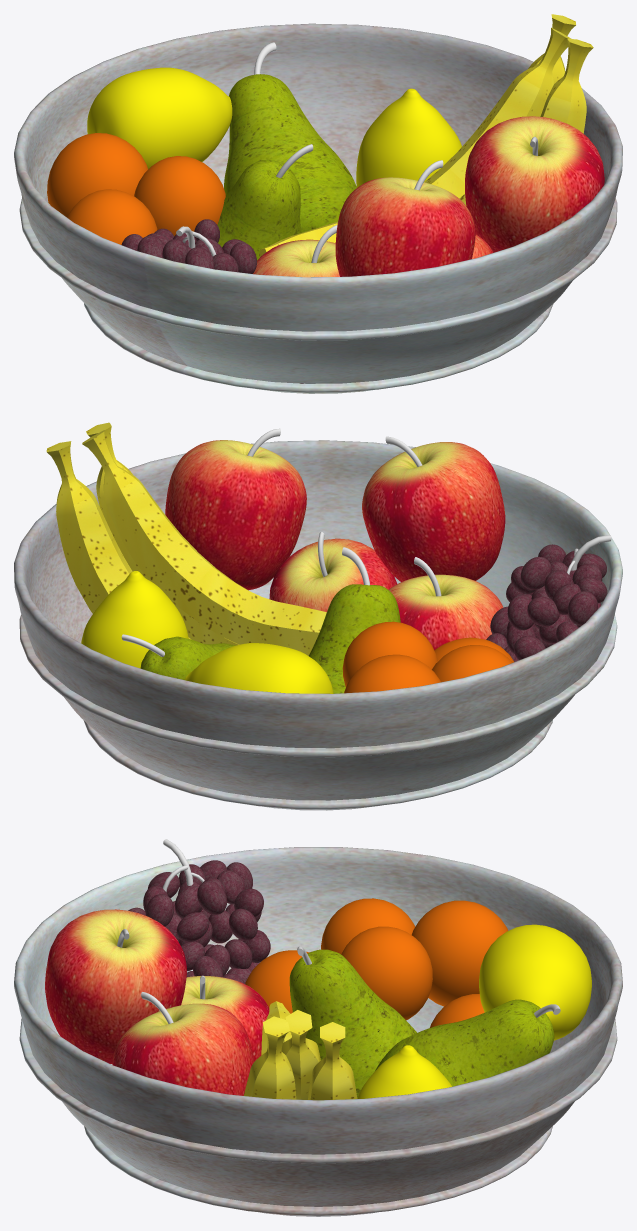
Rendered from bowl.FBX.
3 renders of one model, top to bottom at view 1: azimuth 30°, elevation 25°; view 2: azimuth 150°, elevation 25°; view 3: azimuth 270°, elevation 25°, orthographic.
Parts seen in each view (by area): view 1: Line001, Line013, Line012, Line007, Line011, Line008, Line010, Sphere006, Loft003, Sphere060, Sphere005, Line005 (+3 smaller); view 2: Line001, Line012, Line013, Loft003, Loft001, Line008, Line005, Line011, Line009, Line010, Sphere060, Sphere006 (+9 smaller); view 3: Line001, Line012, Line013, Line010, Line011, Line007, Sphere006, Sphere060, Line005, Line008, Sphere005, Loft002 (+14 smaller).
Boxes of the visible parts, x1=… form: Line001: x1=14, y1=23, x2=622, y2=393; Line013: x1=465, y1=116, x2=604, y2=252; Line012: x1=335, y1=177, x2=475, y2=276; Line007: x1=224, y1=74, x2=356, y2=232; Line011: x1=87, y1=67, x2=232, y2=168; Line008: x1=356, y1=88, x2=461, y2=187; Line010: x1=217, y1=159, x2=301, y2=260; Sphere006: x1=47, y1=133, x2=148, y2=217; Loft003: x1=259, y1=27, x2=571, y2=257; Sphere060: x1=134, y1=156, x2=225, y2=236; Sphere005: x1=67, y1=189, x2=157, y2=244; Line005: x1=253, y1=239, x2=339, y2=277; Line001: x1=14, y1=440, x2=622, y2=810; Line012: x1=362, y1=442, x2=505, y2=582; Line013: x1=165, y1=440, x2=306, y2=590; Loft003: x1=82, y1=430, x2=326, y2=655; Loft001: x1=46, y1=441, x2=191, y2=639; Line008: x1=81, y1=571, x2=188, y2=668; Line005: x1=388, y1=574, x2=503, y2=649; Line011: x1=184, y1=643, x2=333, y2=693; Line009: x1=269, y1=538, x2=397, y2=611; Line010: x1=309, y1=584, x2=400, y2=693; Sphere060: x1=342, y1=621, x2=437, y2=686; Sphere006: x1=344, y1=654, x2=440, y2=693; Line001: x1=14, y1=847, x2=622, y2=1216; Line012: x1=45, y1=909, x2=186, y2=1063; Line013: x1=112, y1=1003, x2=254, y2=1095; Line010: x1=289, y1=949, x2=416, y2=1097; Line011: x1=479, y1=924, x2=591, y2=1040; Line007: x1=375, y1=999, x2=554, y2=1086; Sphere006: x1=411, y1=900, x2=508, y2=1006; Sphere060: x1=341, y1=926, x2=432, y2=1020; Line005: x1=181, y1=976, x2=269, y2=1061; Line008: x1=357, y1=1045, x2=451, y2=1098; Sphere005: x1=321, y1=898, x2=414, y2=954; Loft002: x1=243, y1=1016, x2=296, y2=1099.
Size of the model in its own units: 236 by 116 by 236.
